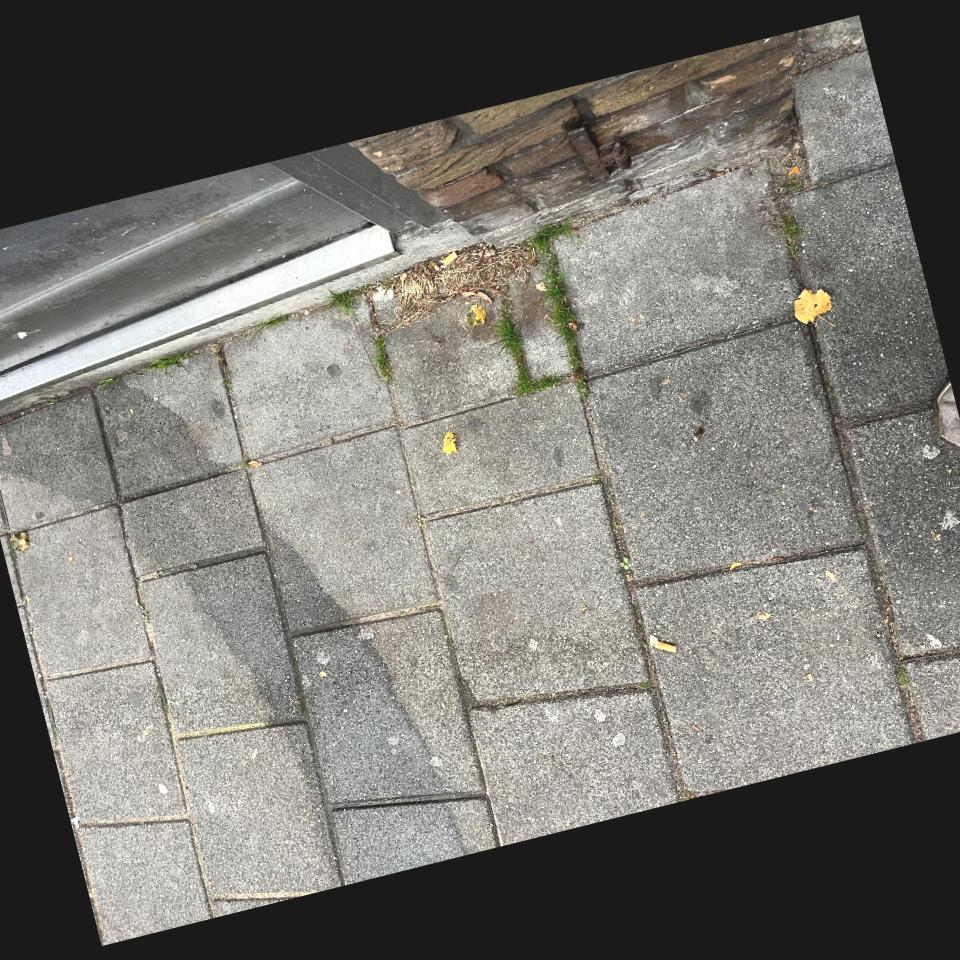weed: (532, 223, 589, 397), (494, 302, 559, 394), (327, 289, 359, 317), (374, 334, 391, 382), (145, 353, 188, 370), (381, 353, 385, 357)
